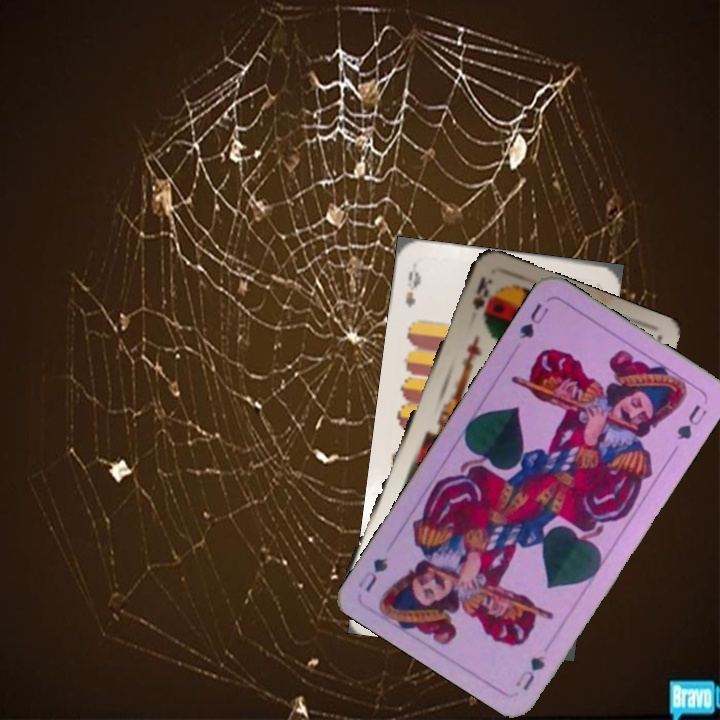E9: (401, 267, 424, 310)
GU: (515, 299, 552, 342), (511, 651, 548, 694)
SK: (468, 272, 495, 313)
